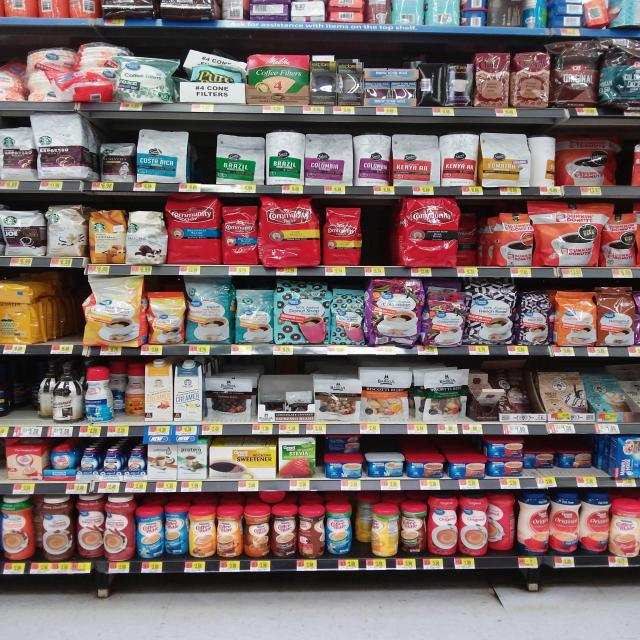empty_space: (367, 201, 393, 261), (11, 366, 33, 420), (59, 281, 79, 339), (195, 136, 213, 179)
